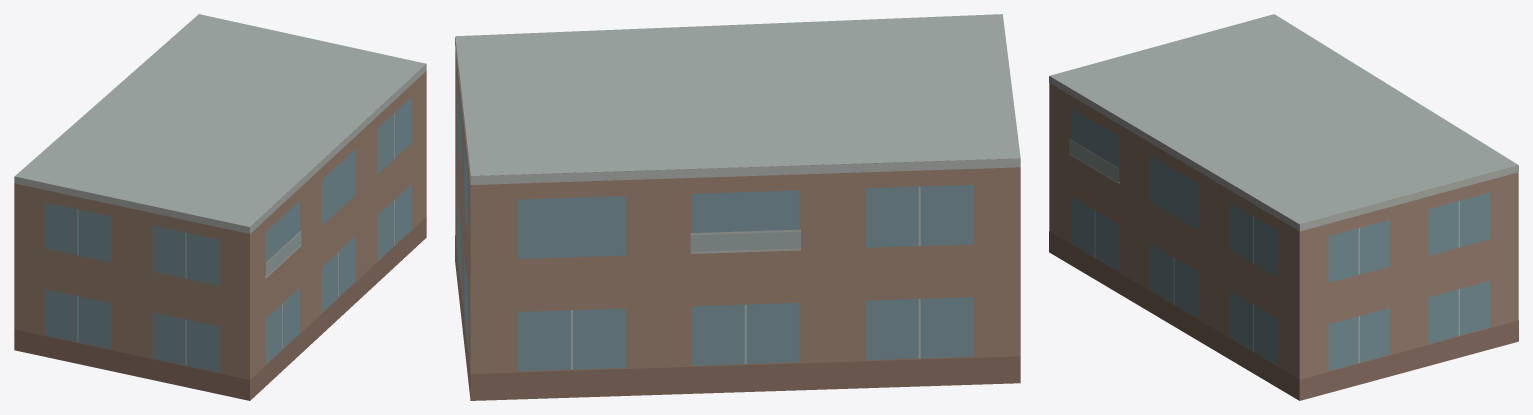
File: survey-upis-32988879.glb
3 views of the same model, side by side, from view 1: azimuth 30°, elevation 25°; view 2: azimuth 150°, elevation 25°; view 3: azimuth 270°, elevation 25° (orthographic). The views are drawn at different scales.
Visible parts, largest first — view 1: survey-upis-32988879.tmp; view 2: survey-upis-32988879.tmp; view 3: survey-upis-32988879.tmp.
Boxes of the visible parts, x1,y1,x2,y2 form: survey-upis-32988879.tmp: (14, 14, 426, 400); survey-upis-32988879.tmp: (455, 14, 1020, 400); survey-upis-32988879.tmp: (1049, 14, 1518, 400).
Bounding box in the file's own units: 15.61 × 6.1 × 14.72.
